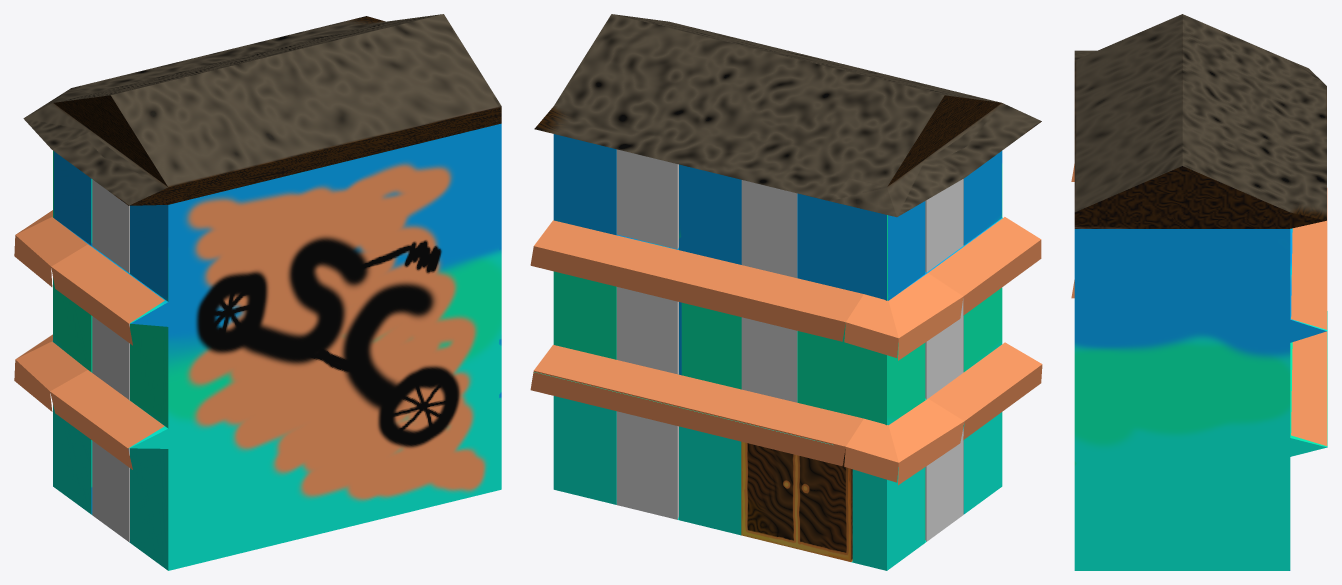
File: 3StoryVariety.fbx
The picture shows the model from 3 angles, left to right: view 1: azimuth 30°, elevation 25°; view 2: azimuth 150°, elevation 25°; view 3: azimuth 270°, elevation 25°; orthographic projection. The views are drawn at different scales.
Visible parts, largest first — view 1: BaseBuilding, Roof, Overhang, Overhang.001, Window.006, Window.008, Window.007; view 2: BaseBuilding, Roof, Overhang, Overhang.001, Door, Window.001, Window.004, Window.005, Window.002, Window.003, Window.006, Window.008 (+1 smaller); view 3: BaseBuilding, Roof, Overhang.001, Overhang.
Part boxes in pixels (left/top/right/bottom): BaseBuilding: left=52, top=123, right=501, bottom=570; Roof: left=23, top=14, right=501, bottom=205; Overhang: left=14, top=210, right=164, bottom=345; Overhang.001: left=14, top=334, right=164, bottom=469; Window.006: left=92, top=441, right=129, bottom=542; Window.008: left=92, top=179, right=129, bottom=272; Window.007: left=92, top=316, right=129, bottom=399; BaseBuilding: left=534, top=134, right=1002, bottom=570; Roof: left=534, top=14, right=1041, bottom=217; Overhang: left=530, top=217, right=1041, bottom=360; Overhang.001: left=530, top=342, right=1042, bottom=485; Door: left=741, top=441, right=852, bottom=561; Window.001: left=616, top=411, right=678, bottom=519; Window.004: left=616, top=149, right=678, bottom=249; Window.005: left=741, top=180, right=797, bottom=277; Window.002: left=616, top=287, right=678, bottom=374; Window.003: left=741, top=317, right=797, bottom=402; Window.006: left=925, top=427, right=963, bottom=541; Window.008: left=925, top=179, right=963, bottom=272; BaseBuilding: left=1074, top=228, right=1327, bottom=570; Roof: left=1074, top=14, right=1326, bottom=228; Overhang.001: left=1071, top=280, right=1327, bottom=445; Overhang: left=1071, top=164, right=1327, bottom=329.
Bounding box in the file's own units: 2262 × 2486 × 1425.
5 materials, 3 textured.
